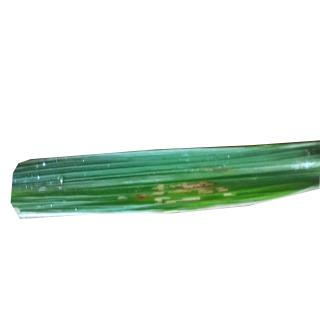Hawar-Daun: (134, 168, 228, 209)
